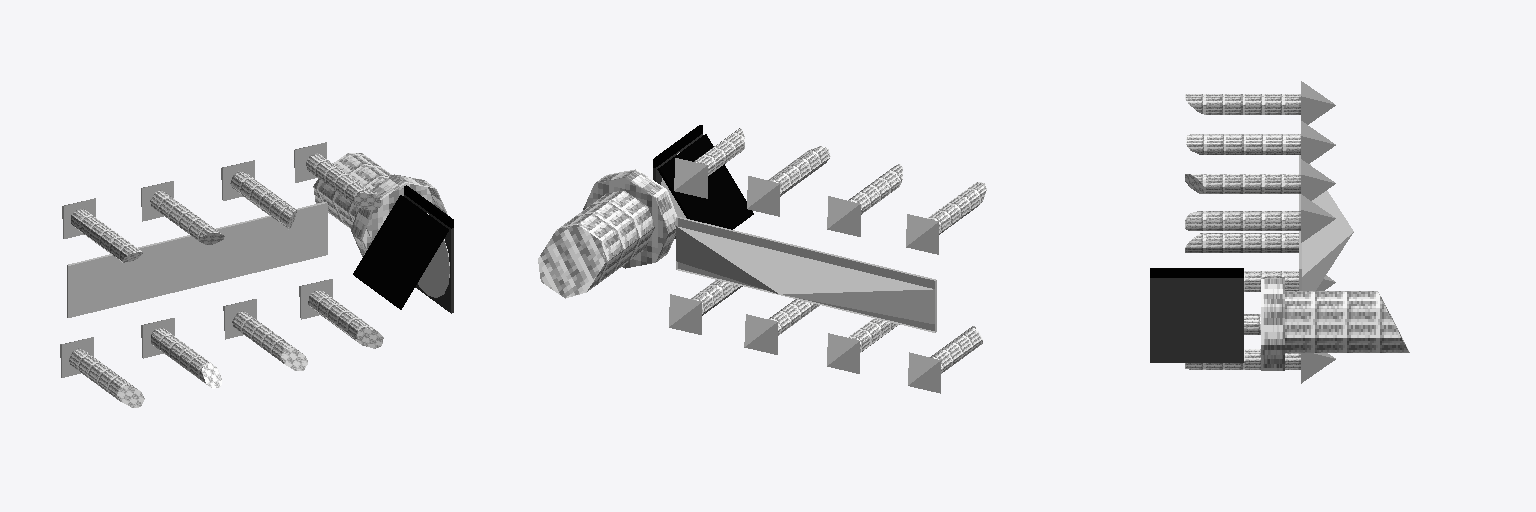
3 renders of one model, left to right at view 1: azimuth 30°, elevation 25°; view 2: azimuth 150°, elevation 25°; view 3: azimuth 270°, elevation 25°, orthographic.
Visible parts, largest first — view 1: ItmCd.001; view 2: ItmCd.001; view 3: ItmCd.001.
Part boxes in pixels (x1,y1,x2,y2): ItmCd.001: (60, 142, 453, 407); ItmCd.001: (538, 125, 986, 393); ItmCd.001: (1150, 81, 1409, 383).
Size of the model in its own units: 33.85 by 15.23 by 20.69.
Materials: 11 (2 with a texture image).